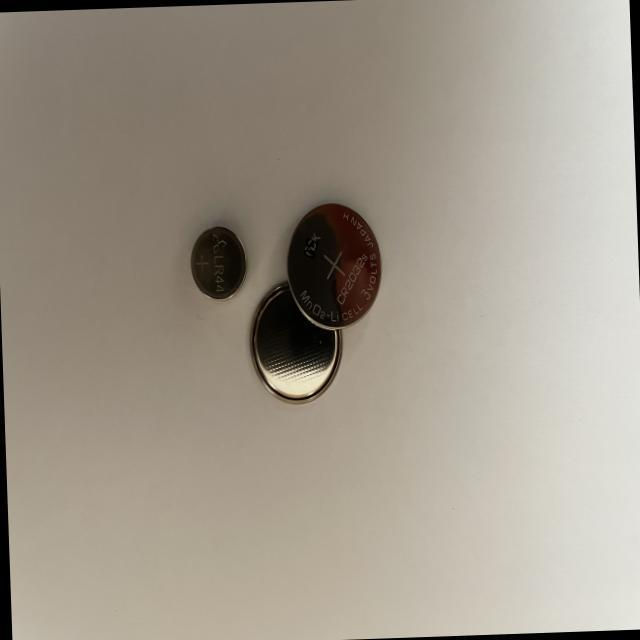COIN: (283, 198, 383, 332), (246, 277, 346, 409), (186, 222, 248, 302)
